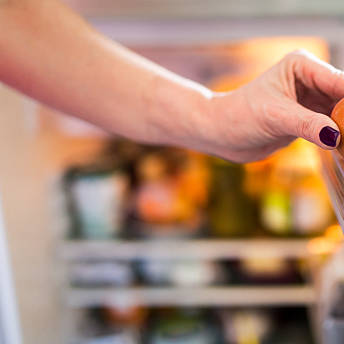egg: (326, 95, 344, 155)
